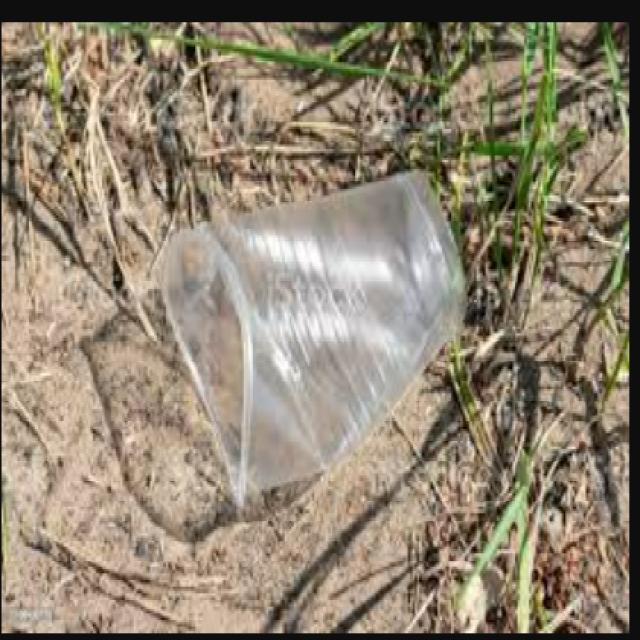GelasPlastik: (160, 167, 468, 509)
